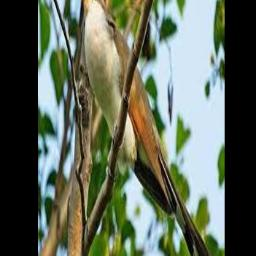Cuckoo: (75, 0, 216, 256)
